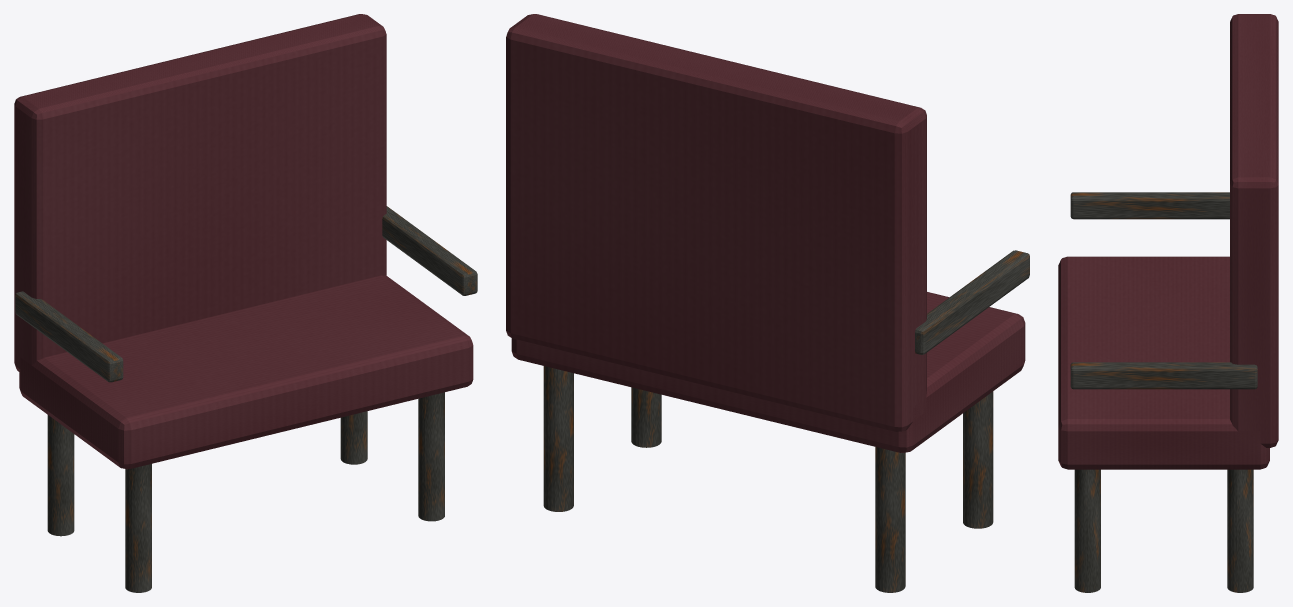
The model's file is kursi.glb.
3 renders of one model, left to right at view 1: azimuth 30°, elevation 25°; view 2: azimuth 150°, elevation 25°; view 3: azimuth 270°, elevation 25°, orthographic. The views are drawn at different scales.
Parts seen in each view (by area): view 1: Sandaran, Dudukan, Lengan, Kaki, Kaki.002, Lengan.001, Kaki.001, Kaki.003; view 2: Sandaran, Dudukan, Kaki.001, Kaki.003, Lengan, Kaki, Kaki.002; view 3: Dudukan, Sandaran, Lengan.001, Lengan, Kaki.002, Kaki.003.
Part boxes in pixels (x1,y1,x2,y2): Sandaran: (14,14,386,371); Dudukan: (19,275,473,469); Lengan: (15,291,123,382); Kaki: (125,464,151,592); Kaki.002: (418,392,444,521); Lengan.001: (382,206,477,295); Kaki.001: (47,415,74,536); Kaki.003: (340,411,367,464); Sandaran: (506,14,926,431); Dudukan: (511,292,1025,452); Kaki.001: (875,447,905,592); Kaki.003: (543,366,573,511); Lengan: (915,250,1029,354); Kaki: (963,391,993,528); Kaki.002: (631,387,661,447); Dudukan: (1058,256,1269,469); Sandaran: (1230,14,1278,447); Lengan.001: (1070,362,1257,389); Lengan: (1070,192,1229,219); Kaki.002: (1074,469,1100,592); Kaki.003: (1227,469,1253,592).
Bounding box in the file's own units: 1.21 × 1.34 × 0.635.
2 materials, 2 textured.
